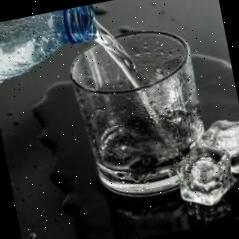glass: (64, 20, 217, 208)
